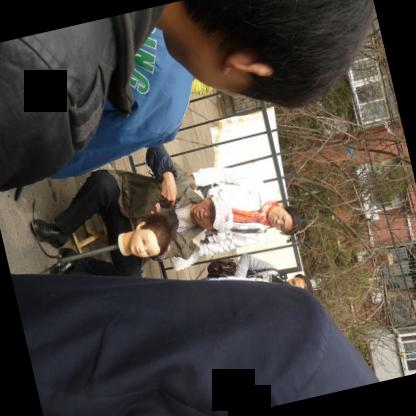handbag: (206, 250, 278, 279)
